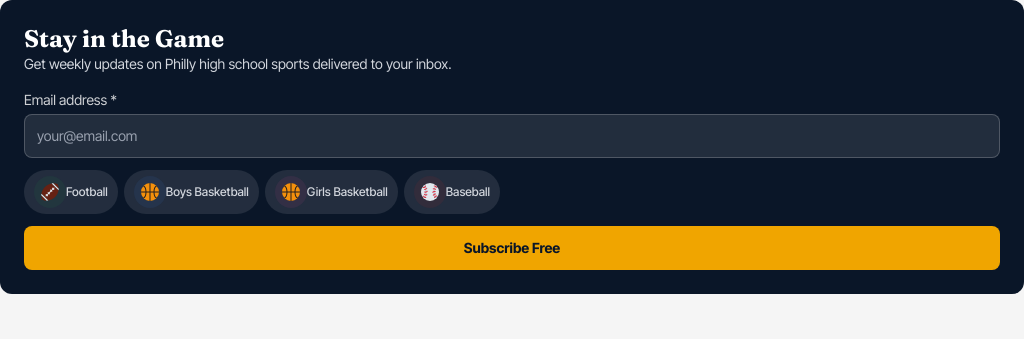
Scenario: NewsletterSignup › shows generic error on submission failure
The width and height of the screenshot is (1024, 339).
Type "test@example.com" into the field with placeholder "your@email.com".
click(512, 136); type("test@example.com")  # box [24,114,1000,158]
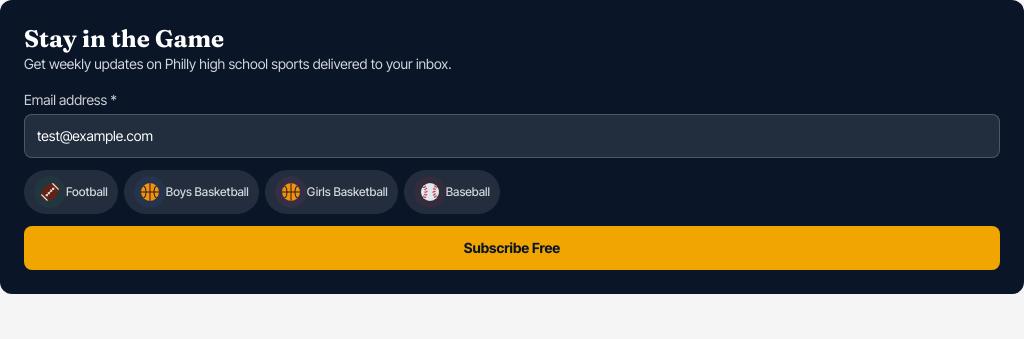
Click the button "Subscribe Free".
click(512, 248)  # box [24,226,1000,270]
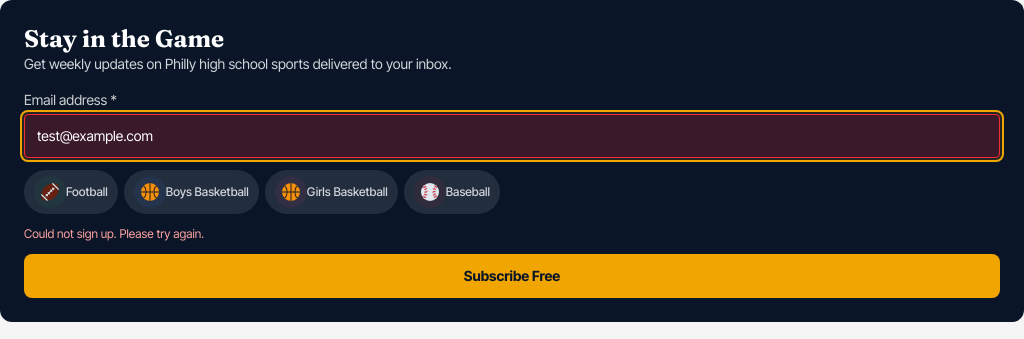
Expected: the text "Could not sign up. Please try again." is shown, [24,226,204,241]
